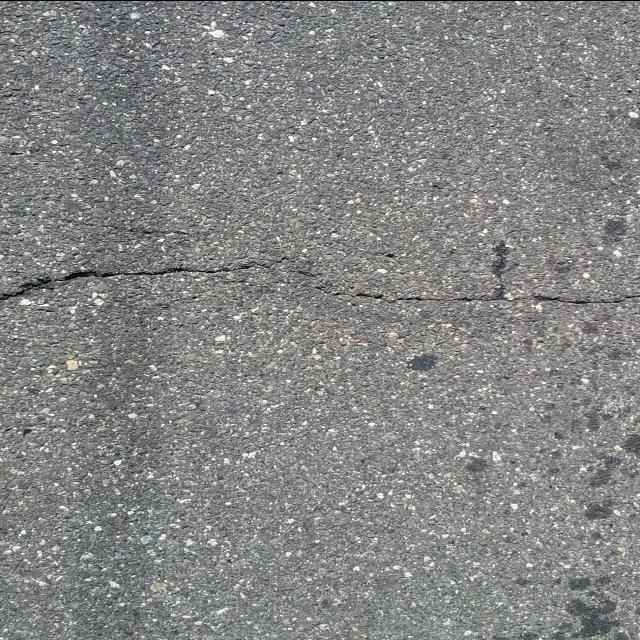Crack: (0, 253, 301, 303), (307, 281, 640, 305)
